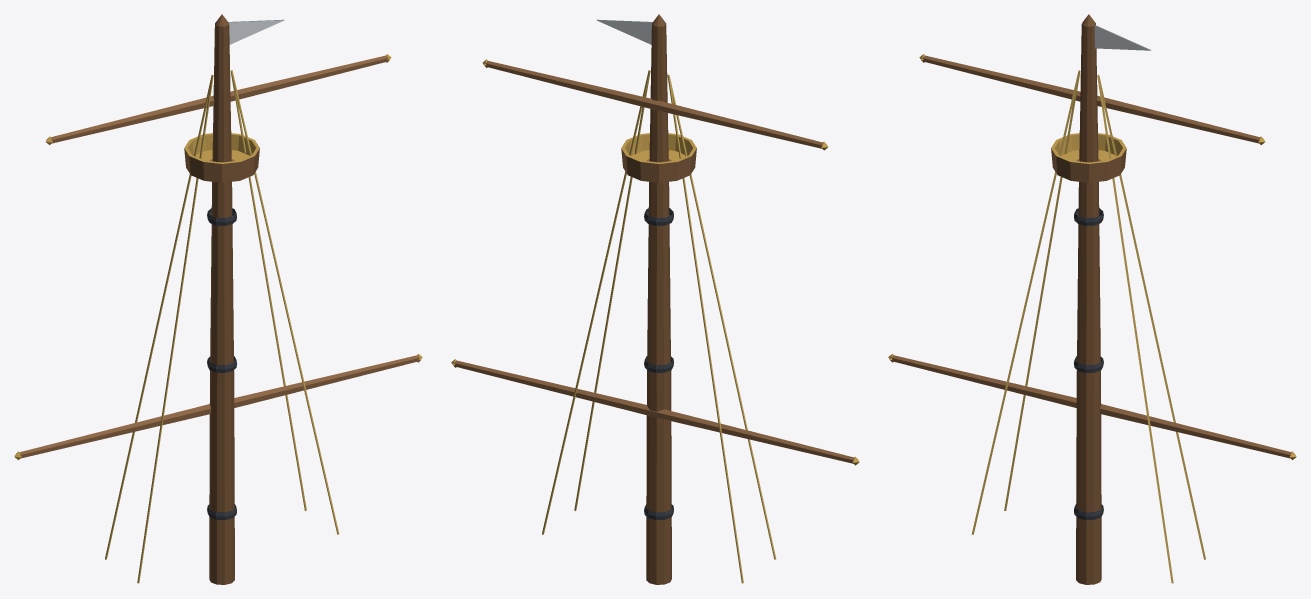
The model's file is ShipMast.obj.
3 renders of one model, left to right at view 1: azimuth 30°, elevation 25°; view 2: azimuth 150°, elevation 25°; view 3: azimuth 330°, elevation 25°, orthographic.
Size of the model in its own units: 13.08 by 17.3 by 2.1.
